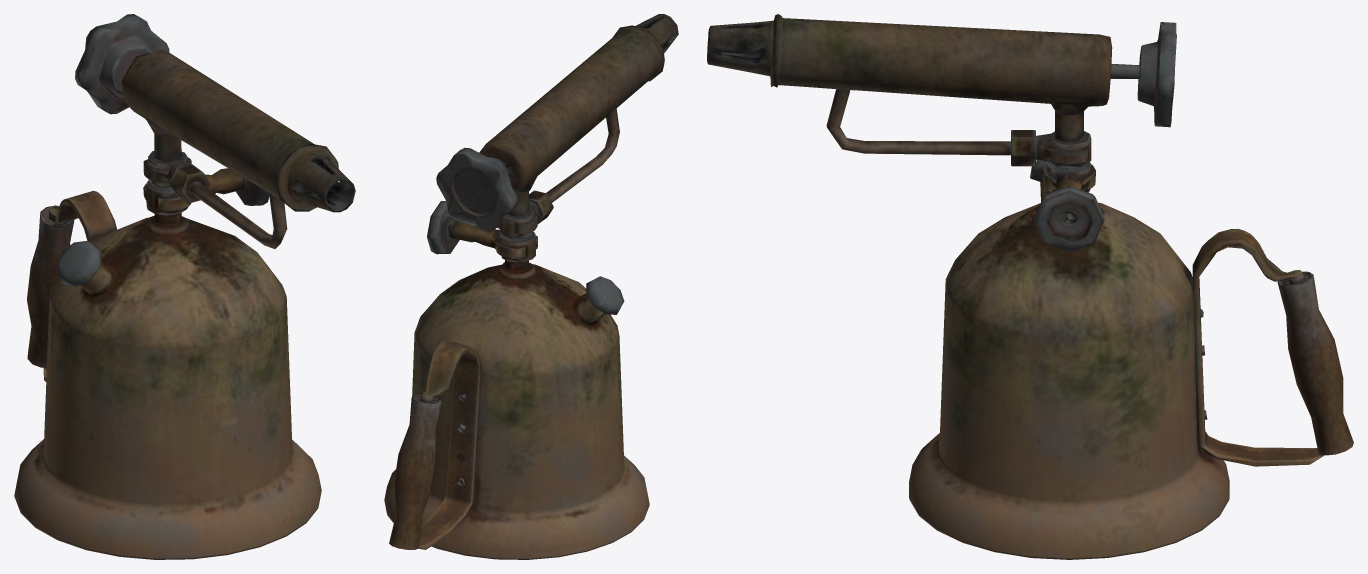
Rendered from brass_blowtorch.glb.
3 renders of one model, left to right at view 1: azimuth 30°, elevation 25°; view 2: azimuth 150°, elevation 25°; view 3: azimuth 270°, elevation 25°, orthographic. The views are drawn at different scales.
Visible parts, largest first — view 1: brass_blowtorch; view 2: brass_blowtorch; view 3: brass_blowtorch.
Boxes of the visible parts, x1=… form: brass_blowtorch: x1=14, y1=14, x2=355, y2=559; brass_blowtorch: x1=384, y1=14, x2=678, y2=559; brass_blowtorch: x1=707, y1=14, x2=1353, y2=559.
Size of the model in its own units: 0.1294 by 0.2102 by 0.2593.
Materials: 1 (1 with a texture image).
